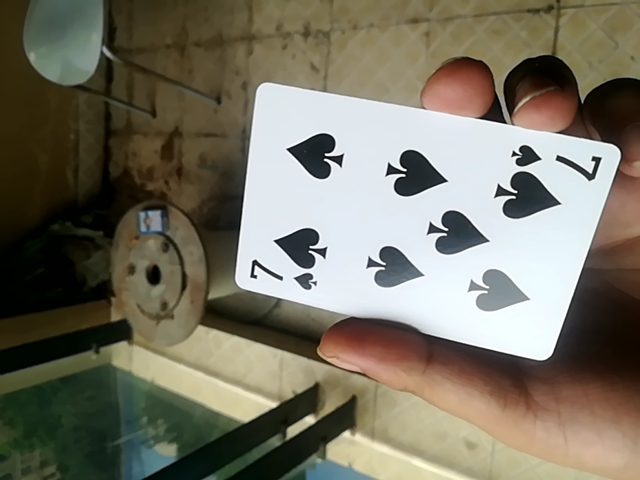ht 7: (229, 80, 623, 368)
